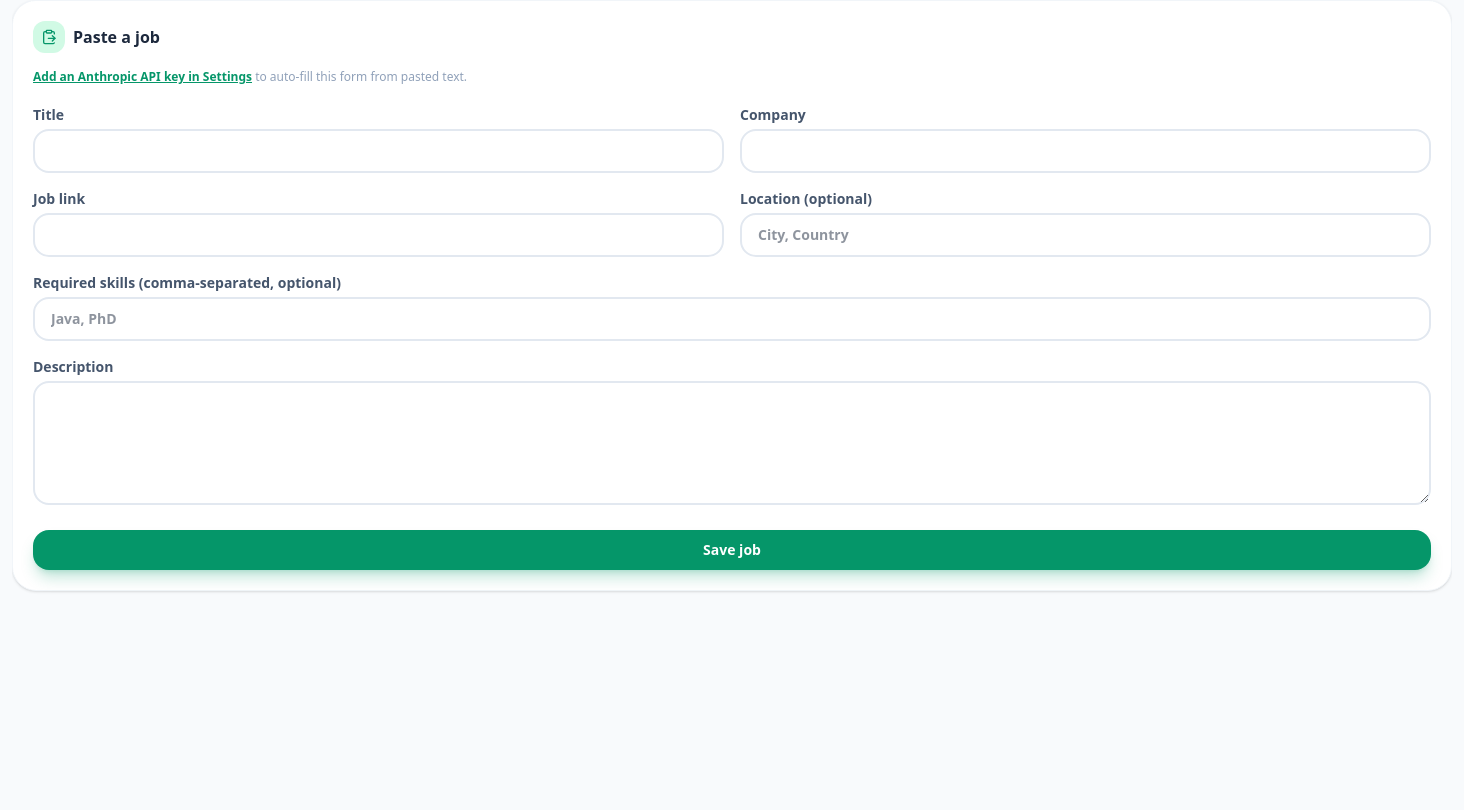
Test: PasteJobForm › shows an error message when the save fails
The width and height of the screenshot is (1464, 810).
Type "Backend Engineer" into the field labelled "Title" at (378, 151), box top-left (33, 129), bottom-right (724, 173)
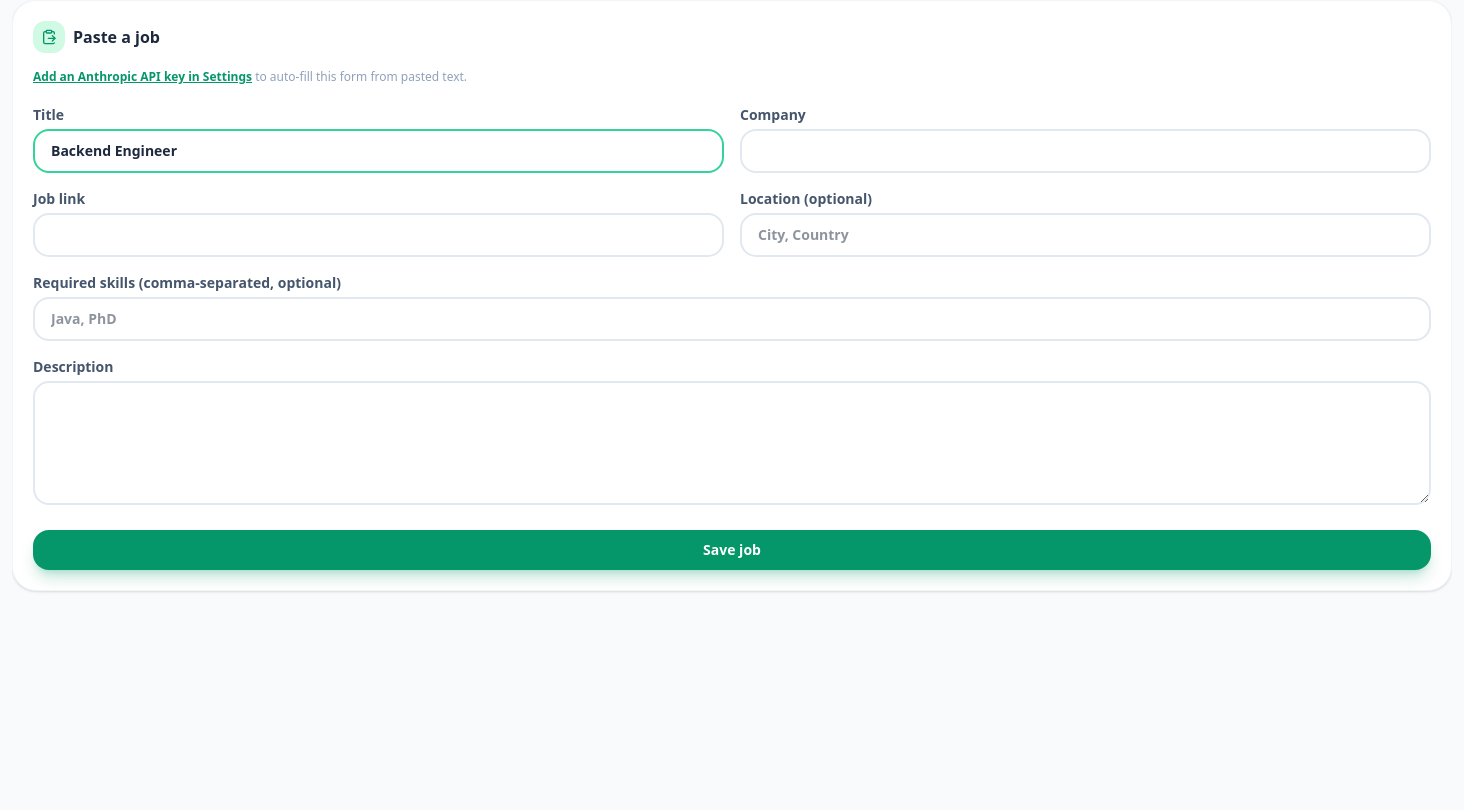
Type "Acme Inc" into the field labelled "Company" at (1086, 151), box top-left (740, 129), bottom-right (1431, 173)
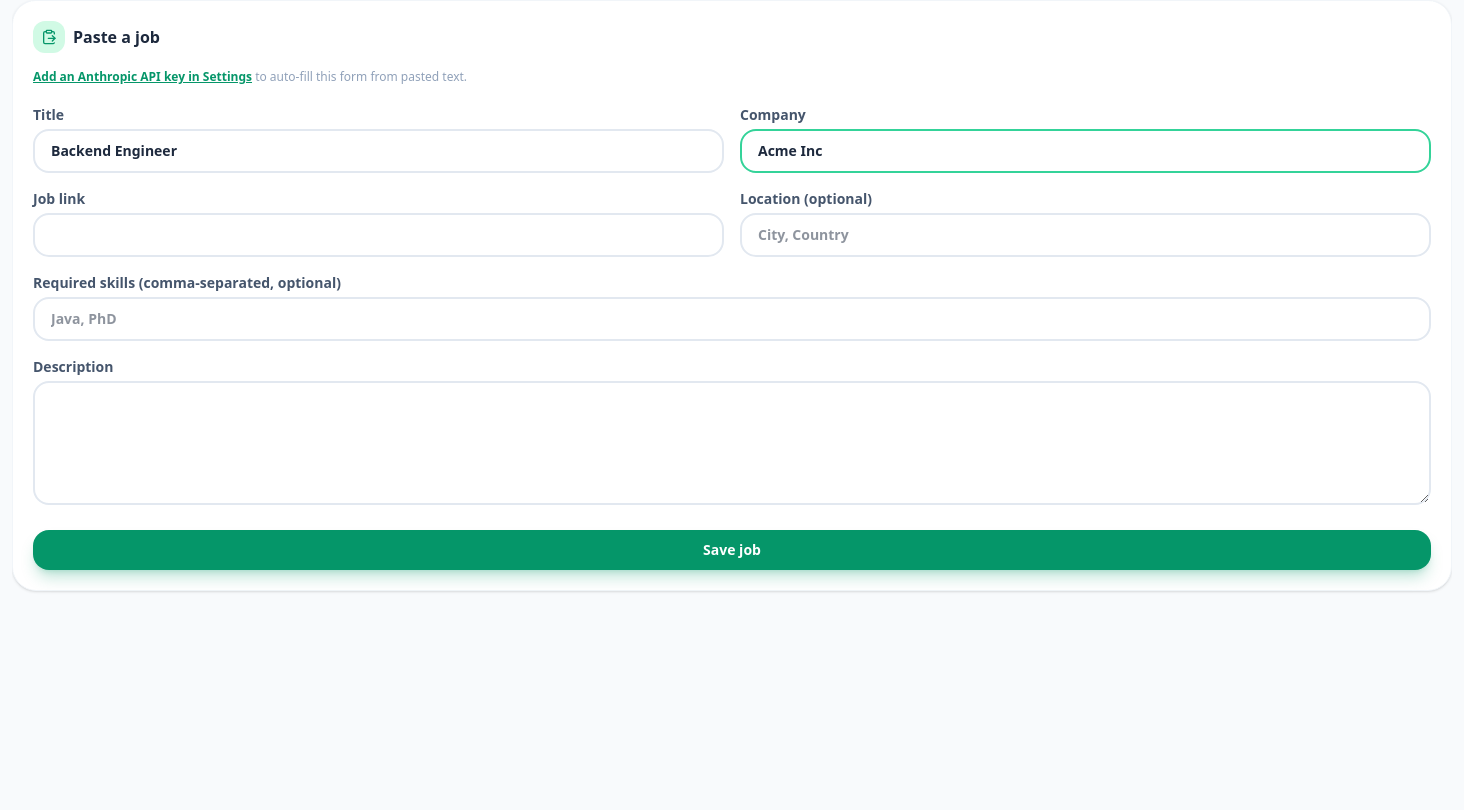
Type "https://example.com/jobs/1" into the field labelled "Job link" at (378, 235), box top-left (33, 213), bottom-right (724, 257)
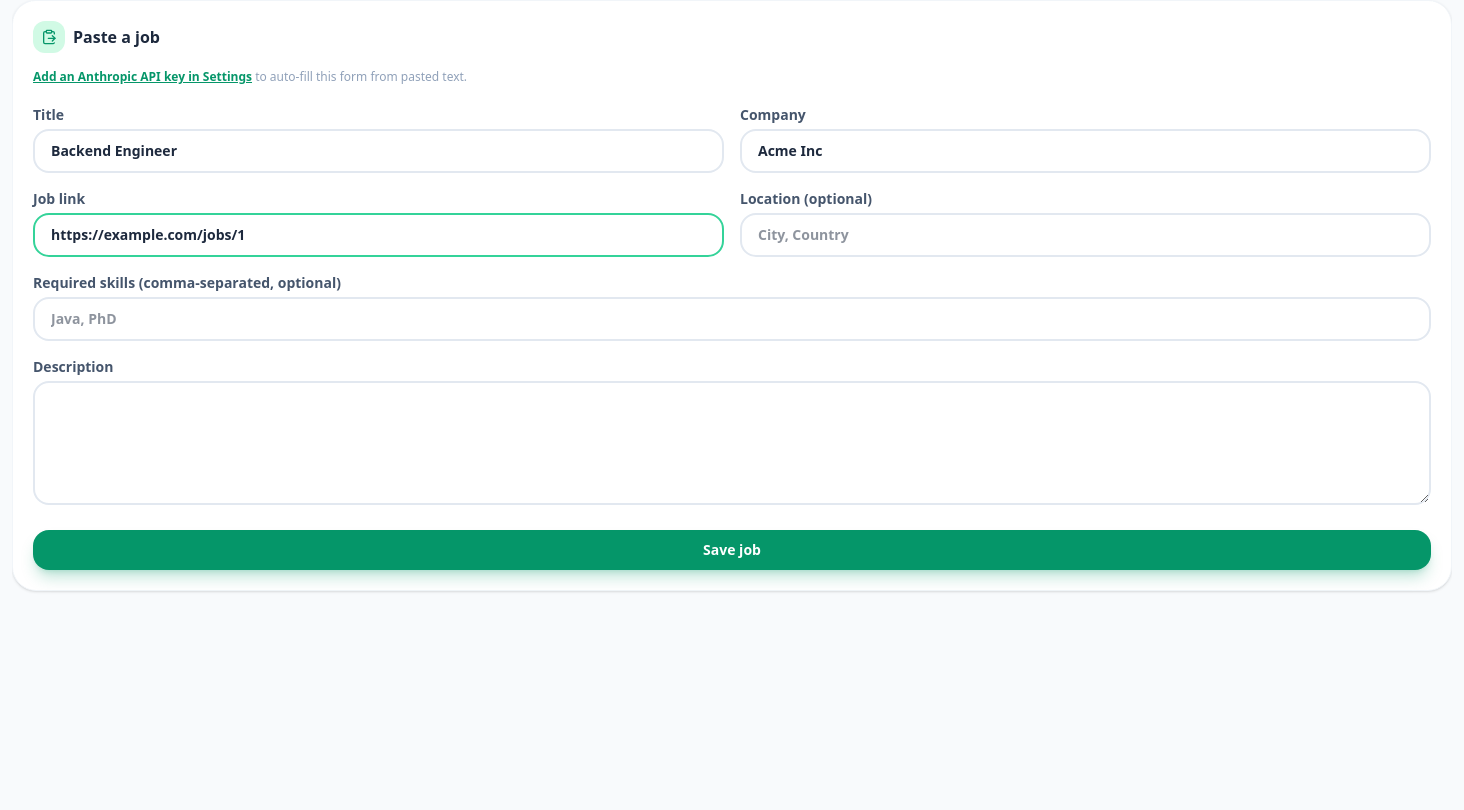
Type "Build APIs." into the text box labelled "Description" at (732, 443), box top-left (33, 381), bottom-right (1431, 505)
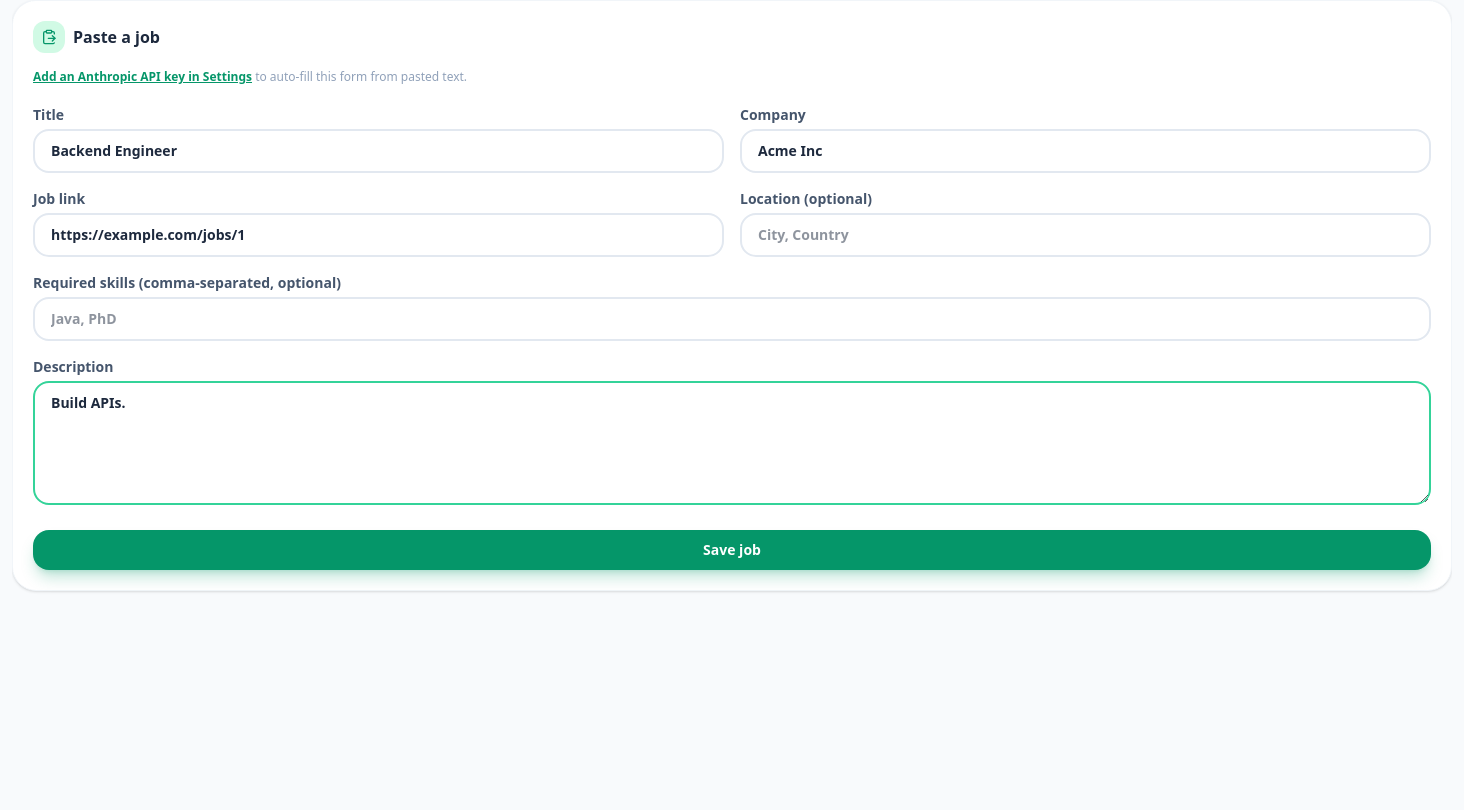
Click the button "Save job" at (732, 550), box top-left (33, 530), bottom-right (1431, 570)
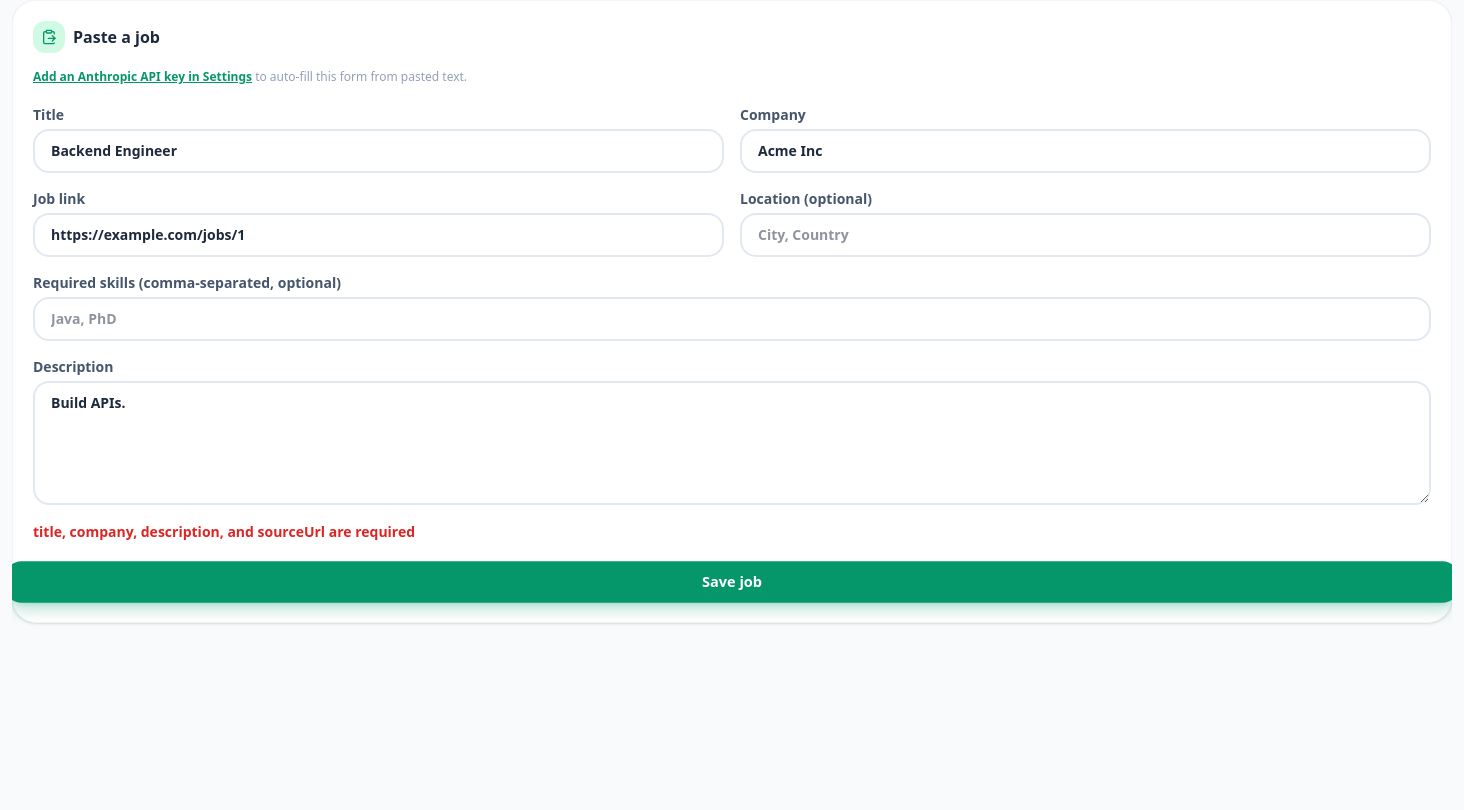
expect the message shows "required": met, box top-left (33, 522), bottom-right (415, 541)
